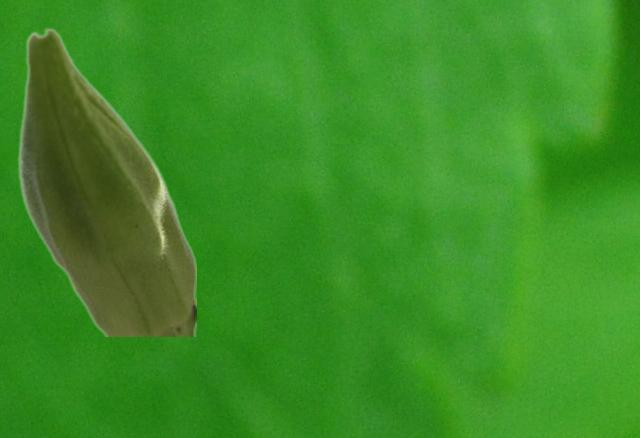okra: (17, 27, 195, 335)
